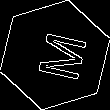M_W: (25, 27, 85, 83)
